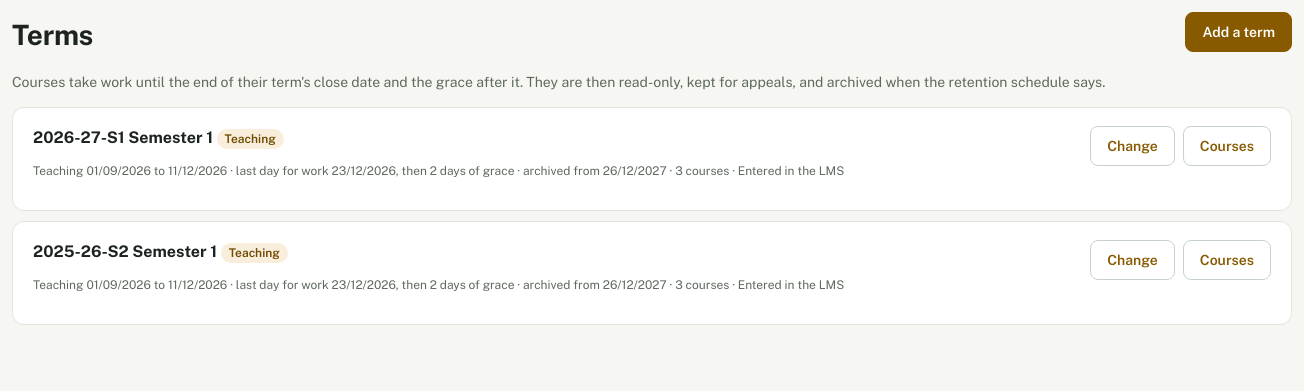
the term calendar (item 7.12) › says when a term's courses cannot be read, or there are none
Click the button with aria-label "Show the courses of 2026-27-S1" at (1227, 146), box [1183,126,1271,166]
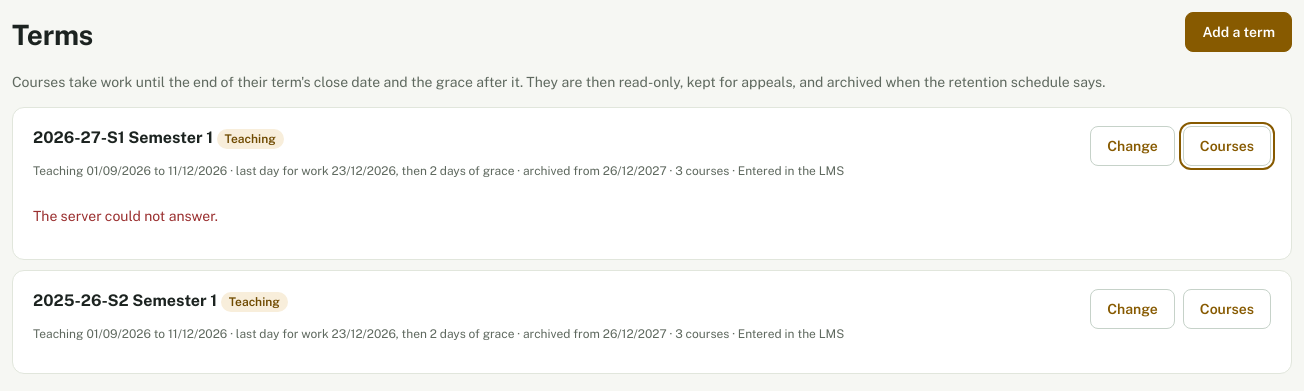
Expected: the text "The server could not answer." is shown, [33,208,218,224]
Click the button with aria-label "Show the courses of 2025-26-S2" at (1227, 309), box [1183,289,1271,329]
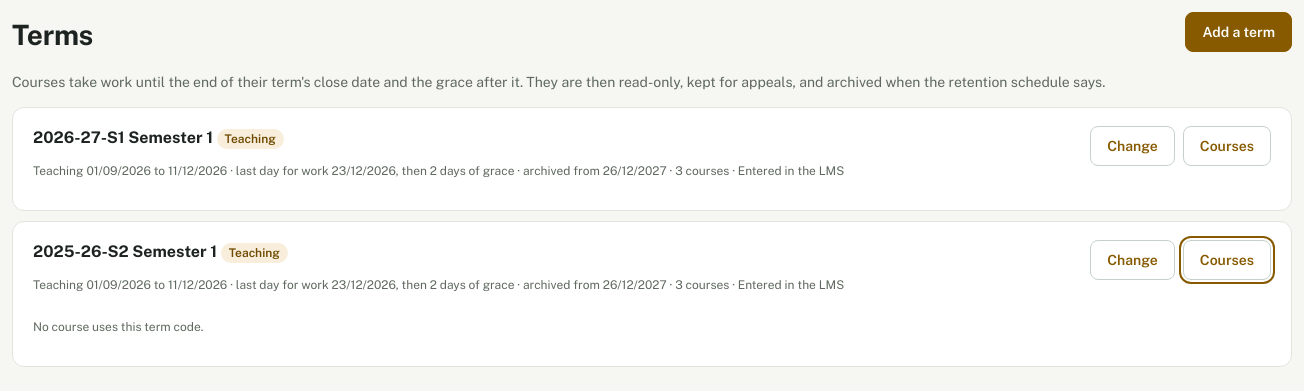
Expected: the text "No course uses this term code." is shown, [33,320,203,334]
